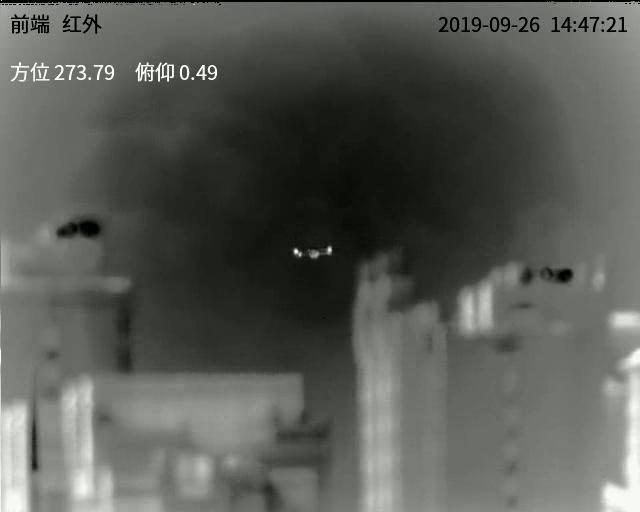DRONE: (289, 245, 334, 259)
